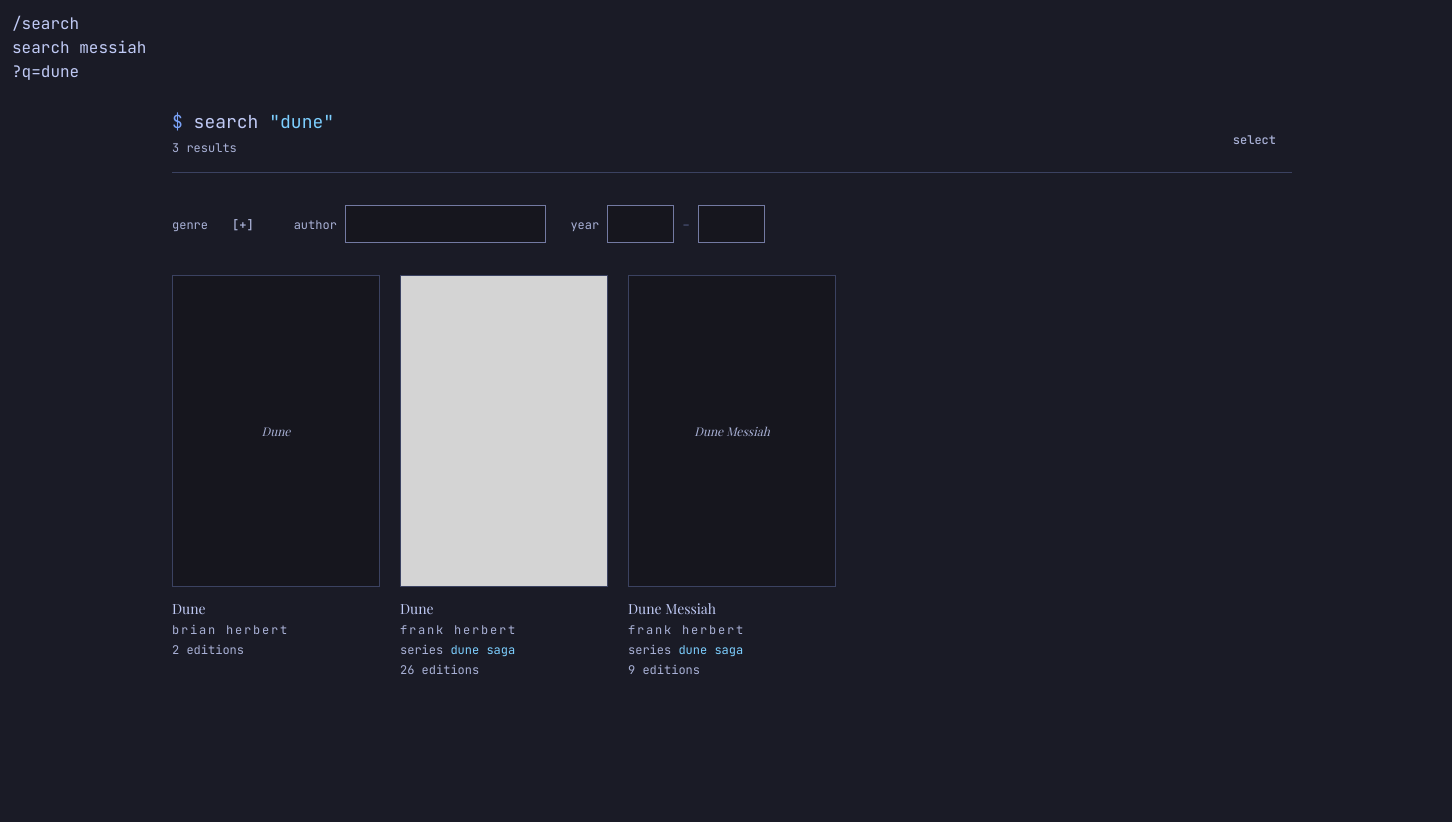
Test: Search page › leaving select mode clears the selection and restores the links
Click the button "select".
click(1254, 140)  # box [1217,124,1292,156]
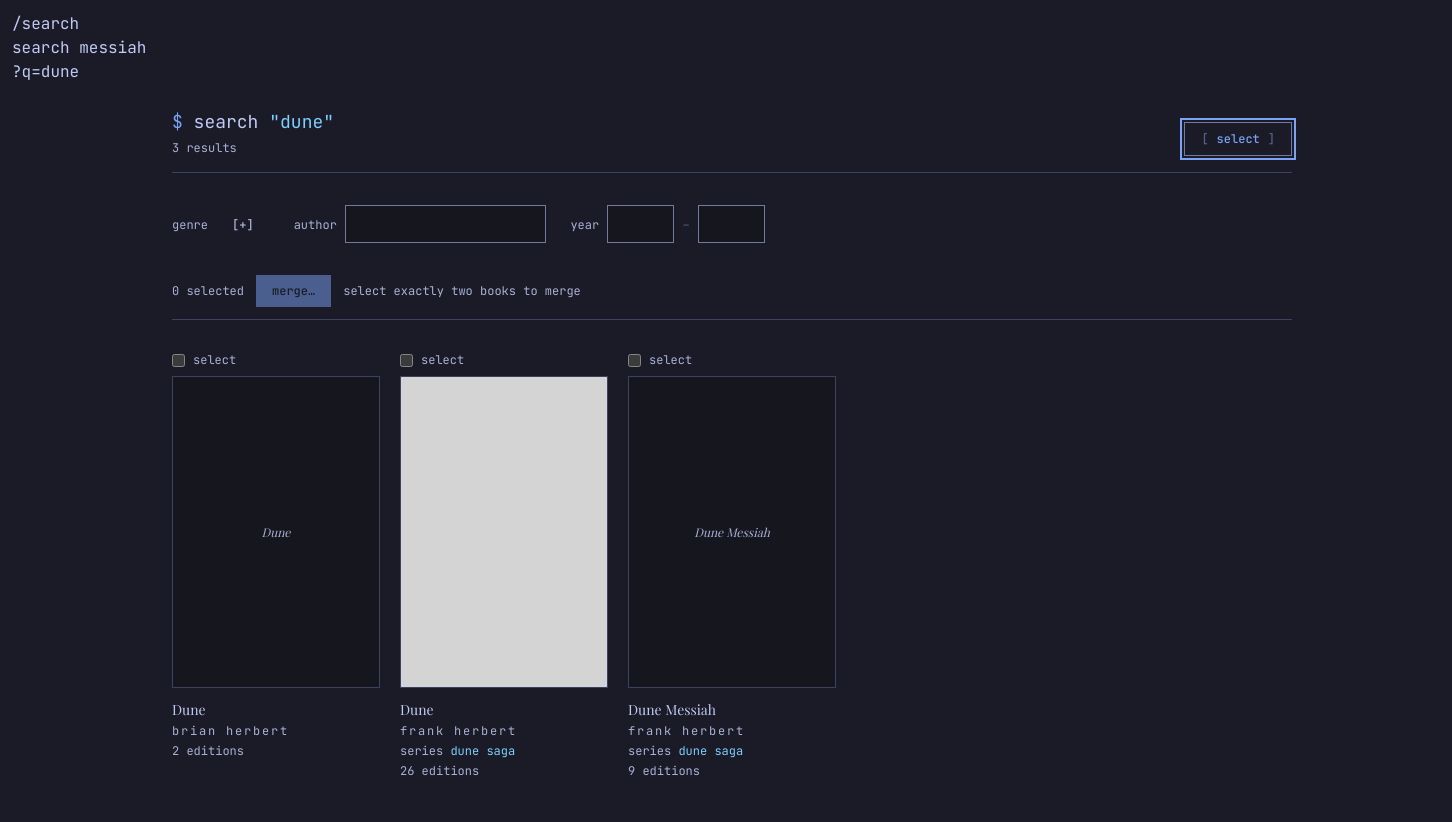
Click the checkbox labelled "select Dune Dune Brian Herbert 2 editions".
click(178, 360)  # box [172,354,185,366]
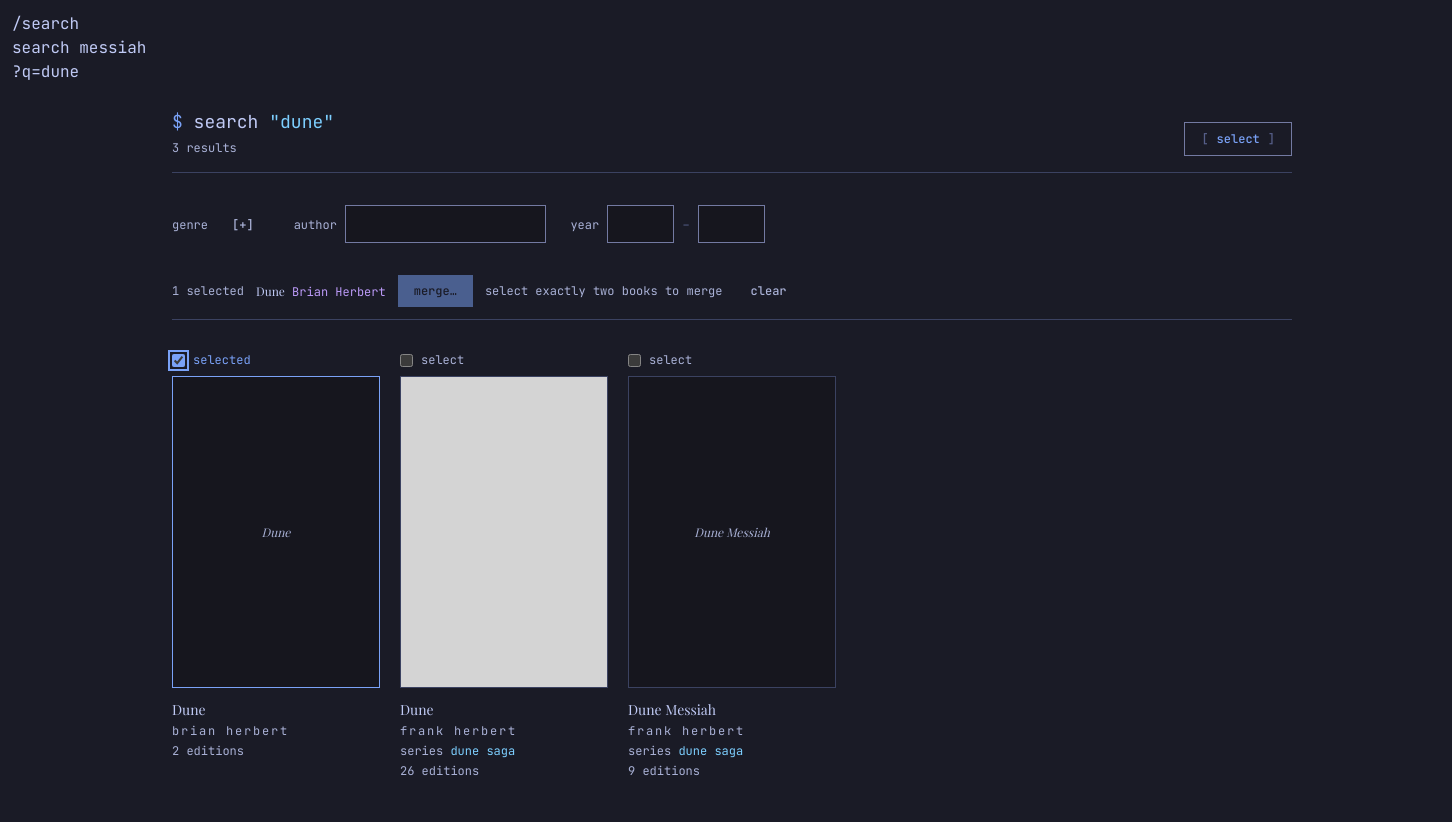
Click the button "select".
click(1238, 139)  # box [1184,122,1292,156]
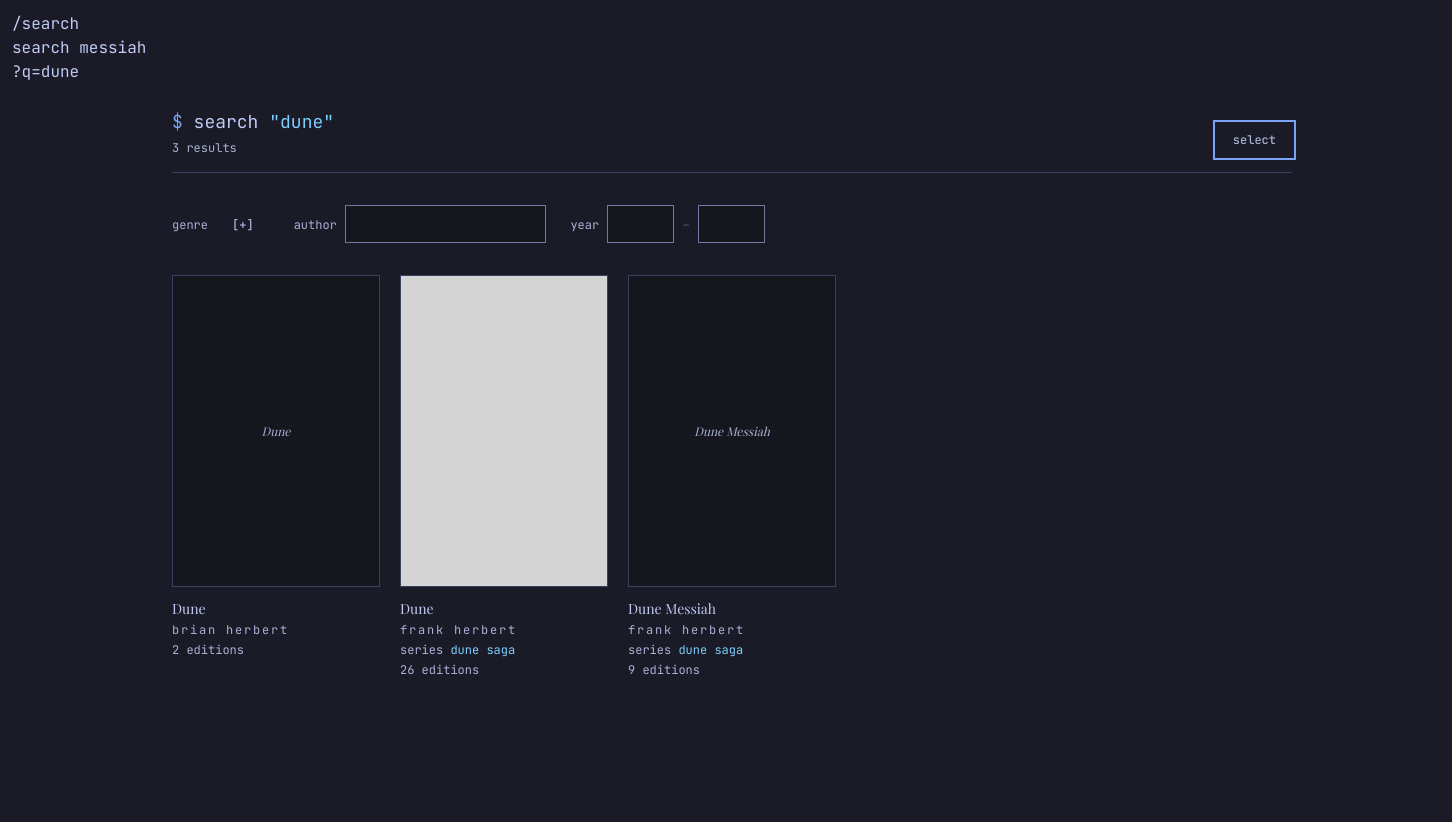
Click the button "select".
click(1254, 140)  # box [1217,124,1292,156]
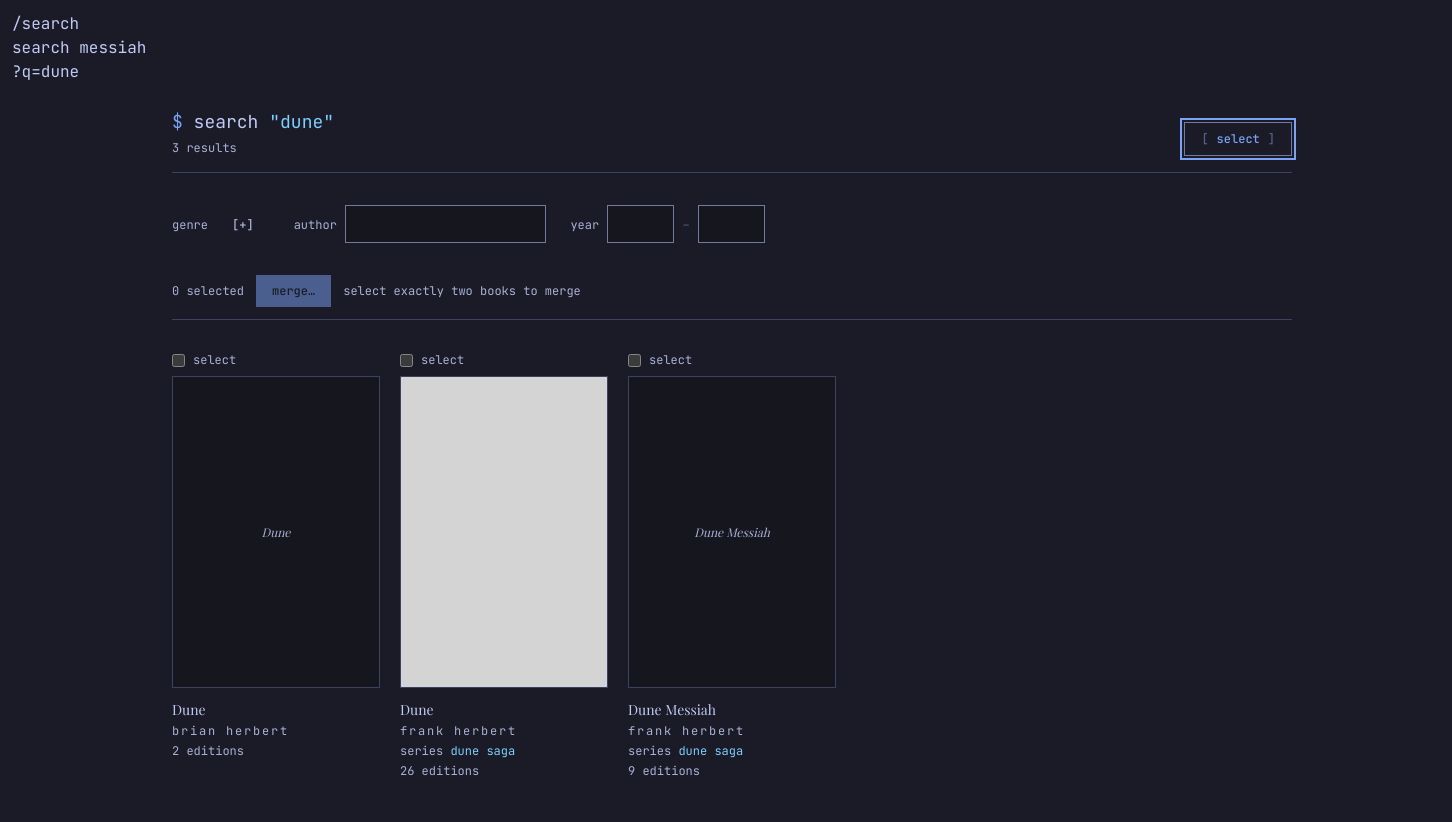
Expected: the message reads "0 selected", [172,283,244,299]
